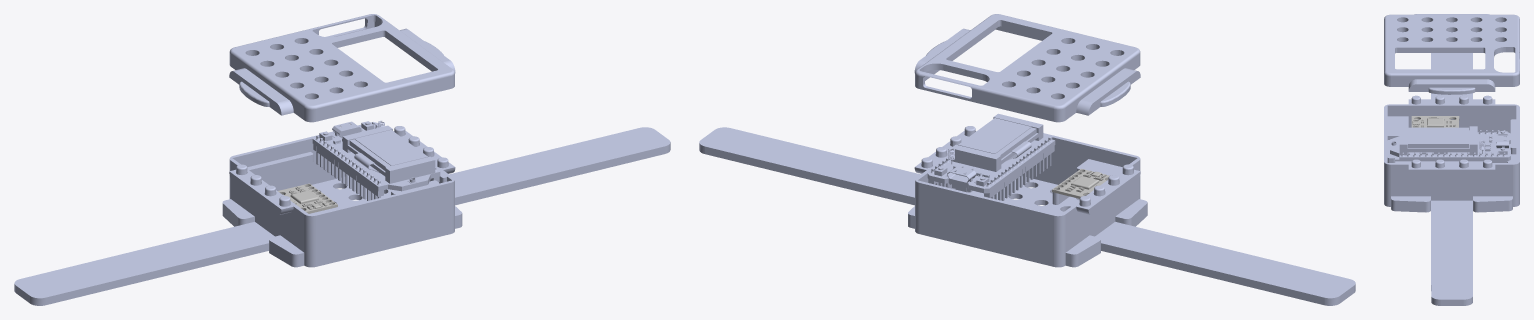
The model's file is assemblynew.glb.
3 views of the same model, side by side, from view 1: azimuth 30°, elevation 25°; view 2: azimuth 150°, elevation 25°; view 3: azimuth 270°, elevation 25° (orthographic). The views are drawn at different scales.
Bounding box in the file's own units: 261 × 62.6 × 58.
